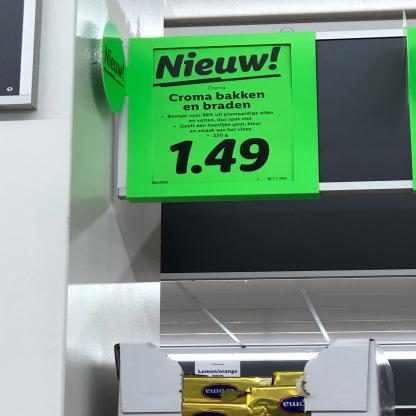prtg: (153, 45, 295, 185)
